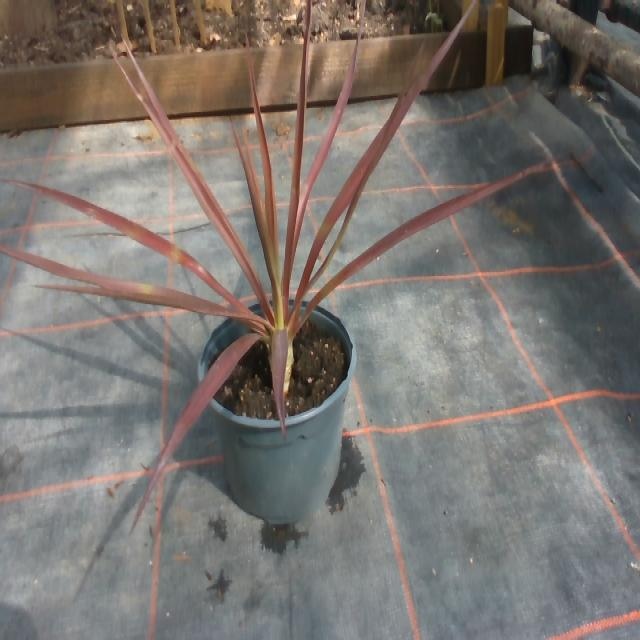Yucca-aloifolia: (296, 0, 478, 300), (300, 163, 549, 324), (11, 180, 242, 307), (129, 49, 255, 279), (132, 335, 259, 529), (0, 245, 265, 324), (291, 25, 360, 264), (282, 0, 310, 297), (250, 75, 283, 325), (272, 328, 288, 435)
